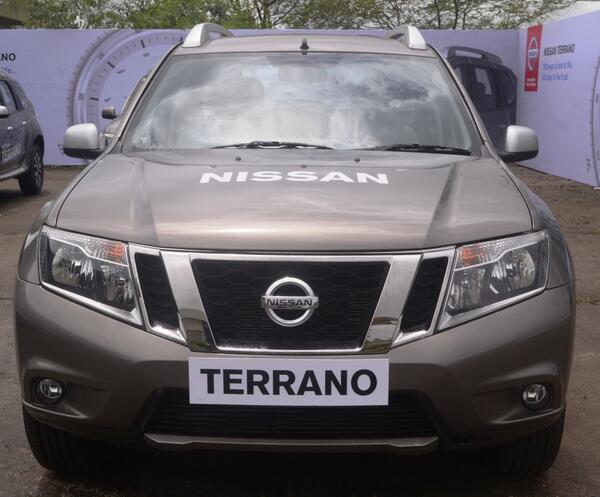number_plate: (183, 354, 392, 414)
